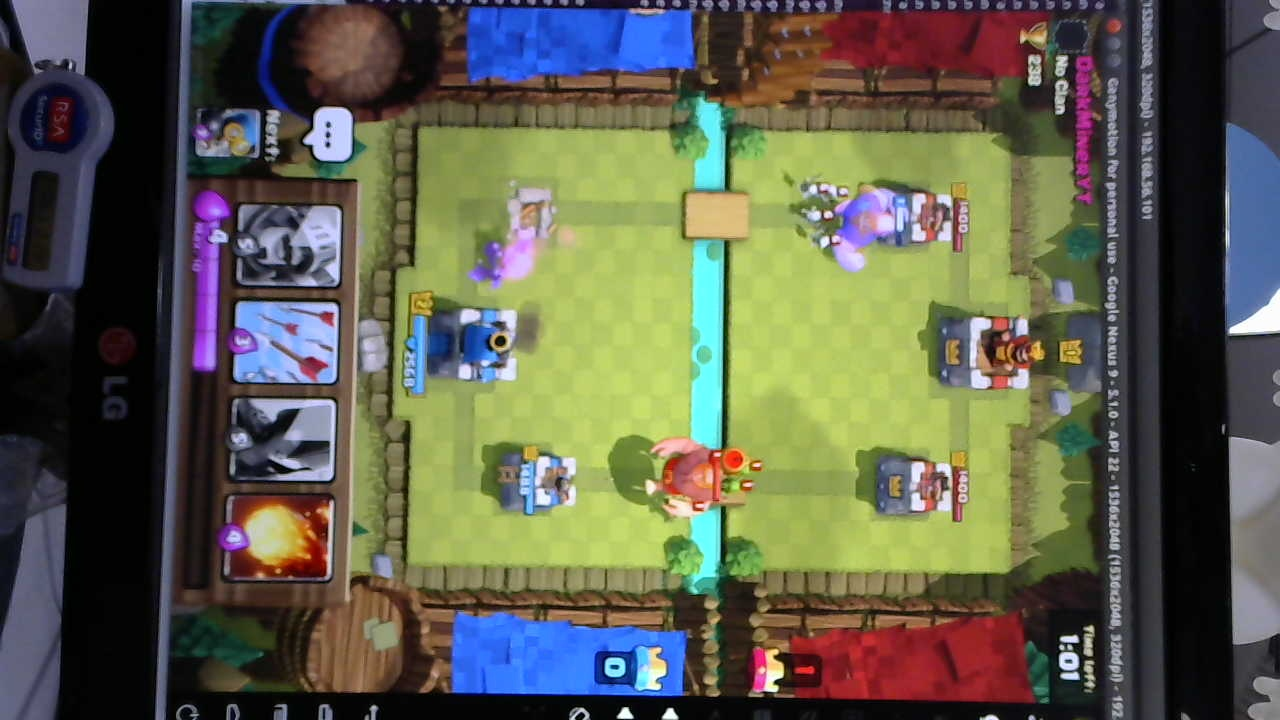arena: (501, 445, 583, 511)
darena: (501, 182, 556, 246)
earena: (874, 452, 953, 520), (882, 189, 957, 248)
eking: (937, 311, 1039, 391)
giant: (648, 428, 719, 518), (837, 175, 894, 272)
goblin: (717, 473, 751, 505)
king: (425, 306, 524, 386)
skeleton: (797, 176, 849, 255)
